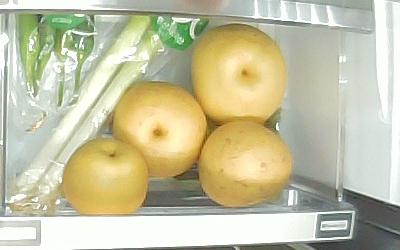pear: (189, 23, 287, 126), (111, 82, 208, 178), (197, 119, 291, 206), (62, 137, 149, 213)
